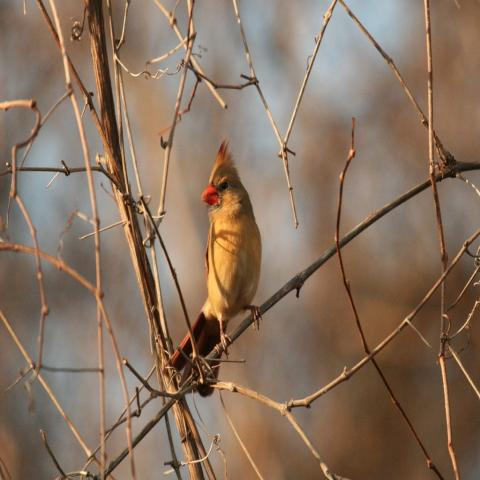bird: (164, 136, 264, 396)
